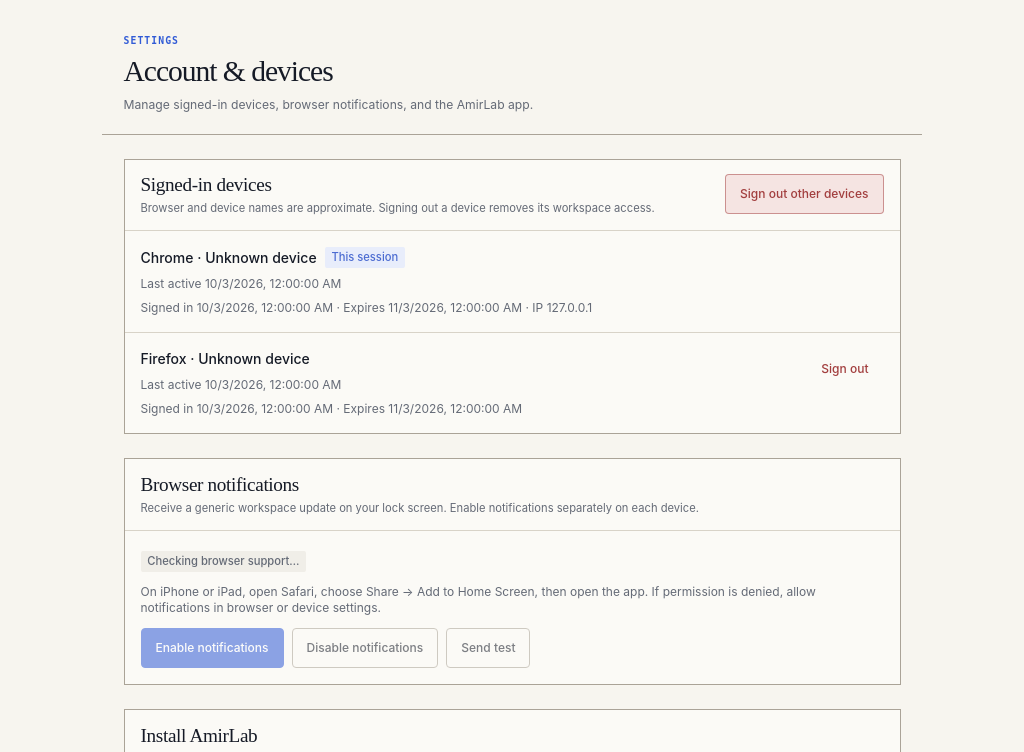
Test: preserves a failed session row and shows an actionable error
Expected: the text "This session" is shown, [325, 248, 405, 268]
Step 1. Click the button "Sign out" → (845, 369), box [806, 349, 884, 389]
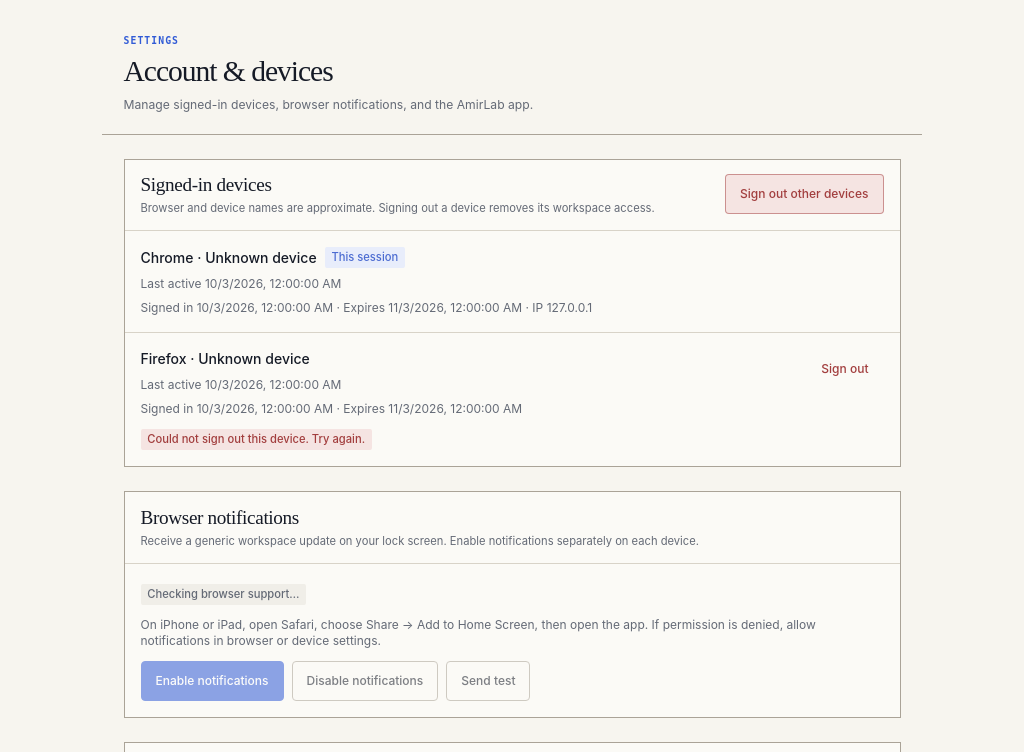
Expected: the heading "Firefox · Unknown device" is shown, [140, 349, 310, 369]
Expected: the text "Could not sign out this device. Try again." is shown, [140, 429, 372, 450]
